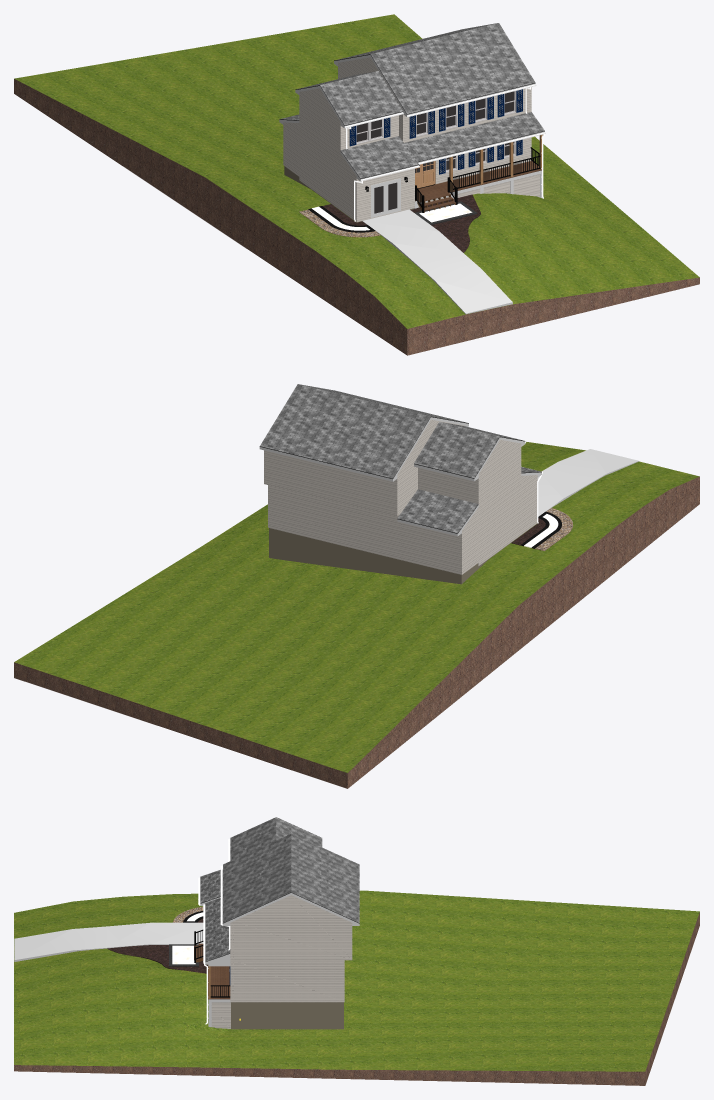
File: porch.gltf
3 renders of one model, top to bottom at view 1: azimuth 30°, elevation 25°; view 2: azimuth 150°, elevation 25°; view 3: azimuth 270°, elevation 25°, orthographic. The views are drawn at different scales.
Parts seen in each view (by area): view 1: Material2 (×17), Material3; view 2: Material2 (×7); view 3: Material2 (×12).
Part boxes in pixels (x1,y1,x2,y2): Material2 (×17): [14, 14, 699, 355]; Material3: [449, 134, 542, 191]; Material2 (×7): [14, 384, 699, 788]; Material2 (×12): [14, 817, 699, 1085].
Size of the model in its own units: 910 by 410 by 1645.
37 materials, 15 textured.
